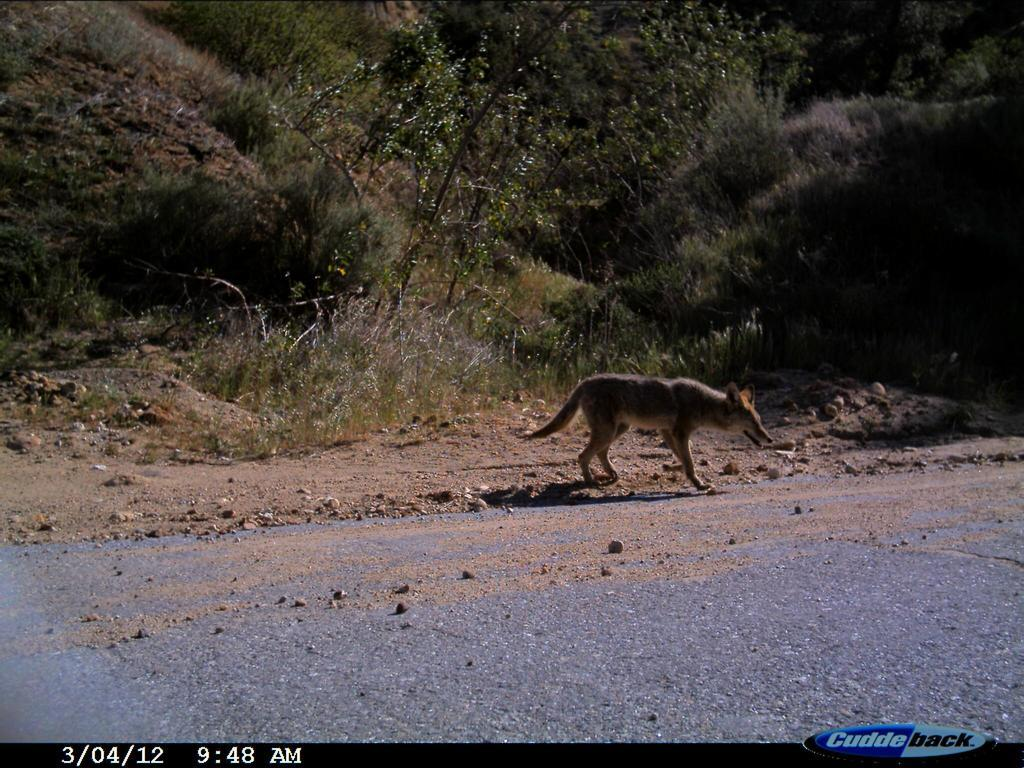coyote: (514, 363, 780, 496)
